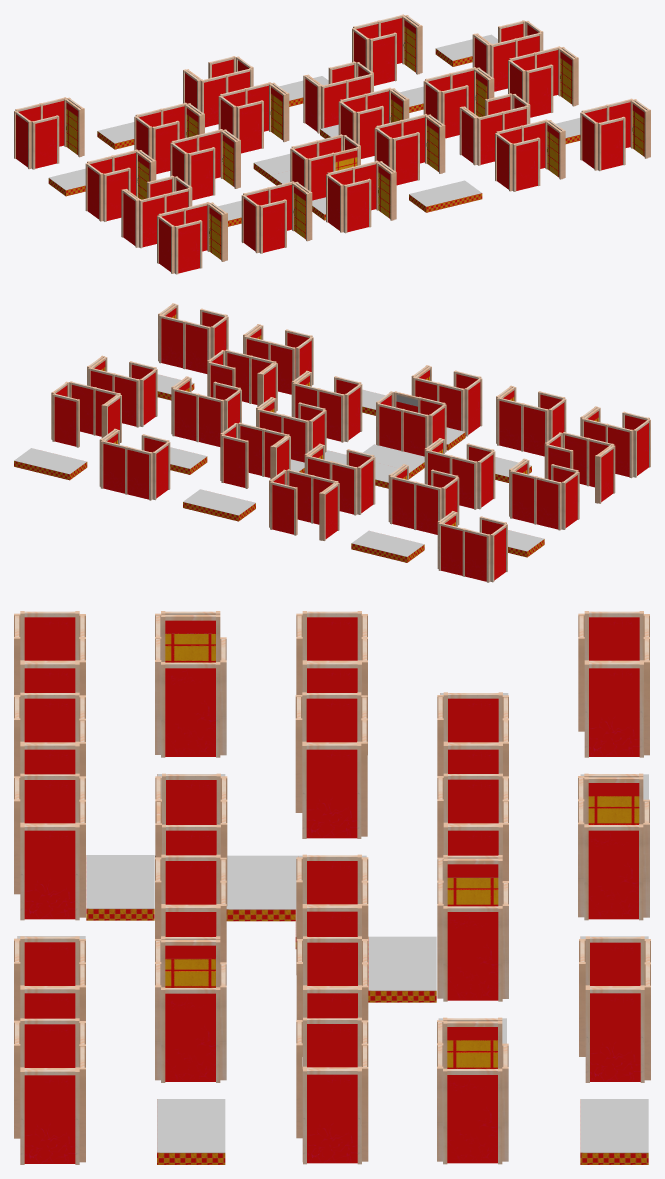
File: smallroom.fbx
The picture shows the model from 3 angles, top to bottom: view 1: azimuth 30°, elevation 25°; view 2: azimuth 150°, elevation 25°; view 3: azimuth 270°, elevation 25°; orthographic projection. The views are drawn at different scales.
Visible parts, largest first — view 1: wall149 (×4), wall150 (×4), door29 (×3), wall148 (×3), pCube44, wall30, wall158, wall127, wall115, wall165, wall109, wall180 (+71 smaller); view 2: wall146 (×4), wall148 (×3), wall150 (×4), pCube50, pCube46, pCube48, wall128, wall149, wall154, wall190, wall122, wall162 (+56 smaller); view 3: wall148 (×4), wall88, wall189, wall130, wall137, wall161, wall171, wall153, wall118, wall182, wall147 (×3), wall176 (+48 smaller).
Boxes of the visible parts, x1,y1,x2,y2 form: wall149 (×4): [208, 56, 419, 185]; wall150 (×4): [200, 74, 427, 163]; door29 (×3): [269, 83, 442, 173]; wall148 (×3): [218, 95, 392, 168]; pCube44: [409, 180, 482, 212]; wall30: [343, 178, 371, 233]; wall158: [512, 137, 540, 191]; wall127: [31, 115, 59, 169]; wall115: [174, 220, 202, 274]; wall165: [598, 116, 625, 171]; wall109: [259, 199, 286, 253]; wall180: [525, 64, 553, 117]; wall146 (×4): [281, 388, 357, 522]; wall148 (×3): [309, 383, 375, 514]; wall150 (×4): [257, 382, 338, 524]; pCube50: [351, 530, 424, 562]; pCube46: [14, 448, 87, 480]; pCube48: [183, 489, 255, 521]; wall128: [462, 528, 490, 582]; wall149: [270, 481, 297, 535]; wall154: [221, 434, 248, 488]; wall190: [52, 393, 79, 447]; wall122: [534, 476, 561, 530]; wall162: [183, 320, 210, 373]; wall148 (×4): [161, 773, 643, 920]; wall88: [20, 824, 79, 920]; wall189: [443, 1068, 502, 1164]; wall130: [584, 662, 643, 757]; wall137: [302, 743, 361, 838]; wall161: [20, 1069, 79, 1164]; wall171: [585, 987, 644, 1082]; wall153: [443, 906, 502, 1001]; wall118: [161, 662, 220, 757]; wall182: [161, 987, 220, 1082]; wall147 (×3): [161, 824, 502, 961]; wall176: [303, 1068, 361, 1164].
Bounding box in the file's own units: 2549 × 242 × 1489.
